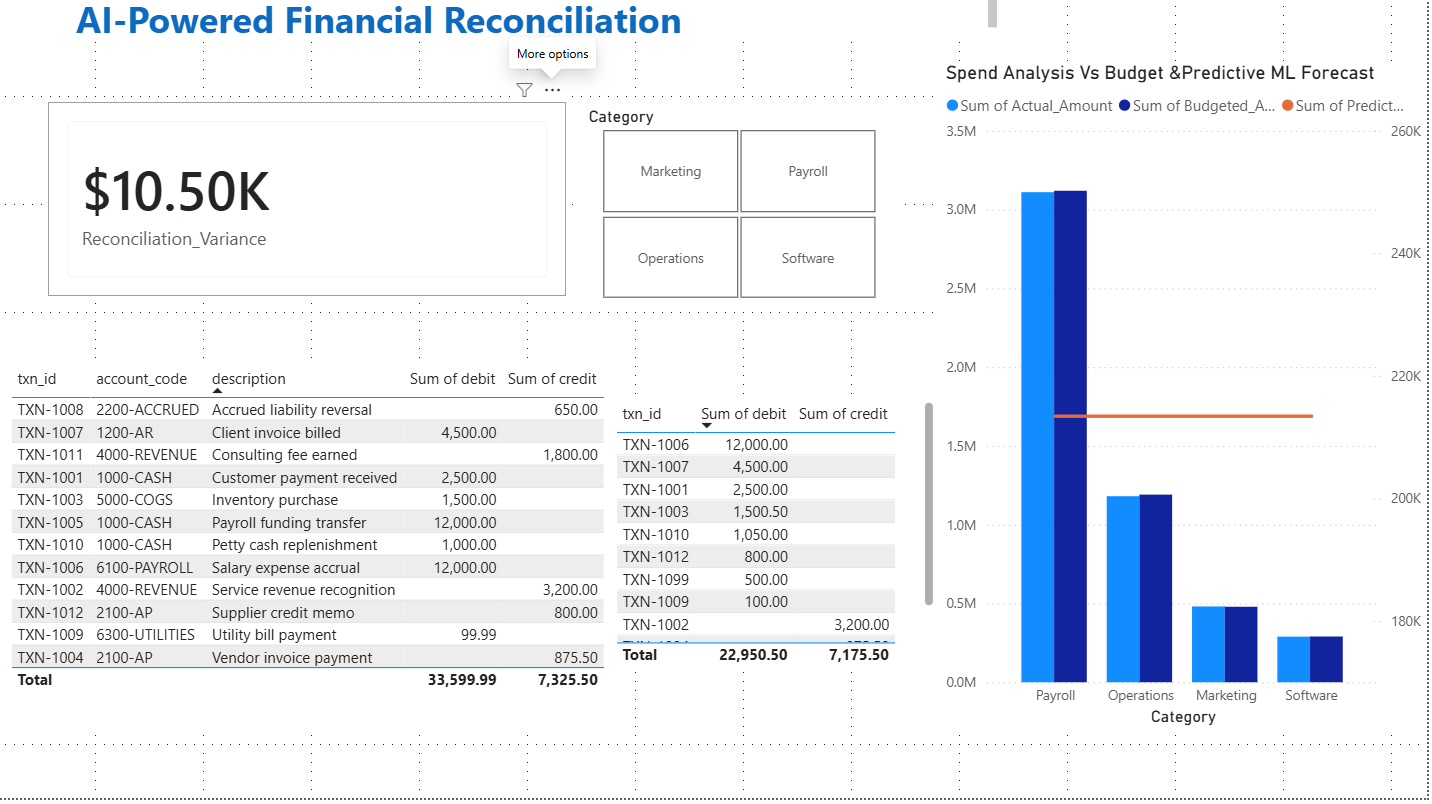

The dashboard page shown, as its layout file describes it:
{"tool":"powerbi","page":{"name":"Page 1","canvas":[1280,720],"ordinal":0},"visuals":[{"type":"cardVisual","fields":{"Data":["Fact_HQ_Ledger.Reconciliation_Variance"]},"box":[54,101,461,173],"z":0},{"type":"tableEx","fields":{"Values":["Fact_HQ_Ledger.txn_id","Fact_HQ_Ledger.account_code","Fact_HQ_Ledger.description","Sum(Fact_HQ_Ledger.debit)","Sum(Fact_HQ_Ledger.credit)"]},"box":[16,331.6,537.8,328.9],"z":1000},{"type":"tableEx","fields":{"Values":["Fact_Sub_Ledger.txn_id","Sum(Fact_Sub_Ledger.debit)","Sum(Fact_Sub_Ledger.credit)"]},"box":[553.8,362.7,293.3,244.4],"z":2000},{"type":"lineClusteredColumnComboChart","title":"Spend Analysis Vs Budget &Predictive ML Forecast","fields":{"Category":["Fact_Historiacal_Spending.Category"],"Y":["Sum(Fact_Historiacal_Spending.Actual_Amount)","Sum(Fact_Historiacal_Spending.Budgeted_Amount)"],"Y2":["Sum(Fact_Budget_Forecast.Predicted_Next_Month_Spend)"]},"box":[847.1,64.9,432.9,595.6],"z":3000},{"type":"slicer","fields":{"Values":["Fact_Historiacal_Spending.Category"]},"box":[522,101,292,181],"z":4000},{"type":"textbox","box":[73.8,0,829.3,46.2],"z":5000}]}

Visuals, with their boxes on the page's 1280x720 design canvas (x1, y1, x2, y2). These are canvas units, not pixel positions in the 1432x804 screenshot, which may show the page scaled, cropped or inside an application window:
cardVisual - Fact_HQ_Ledger.Reconciliation_Variance: Rect(54, 101, 515, 274)
tableEx - Fact_HQ_Ledger.txn_id x Fact_HQ_Ledger.account_code: Rect(16, 332, 554, 660)
tableEx - Fact_Sub_Ledger.txn_id x Sum(Fact_Sub_Ledger.debit): Rect(554, 363, 847, 607)
"Spend Analysis Vs Budget &Predictive ML Forecast" lineClusteredColumnComboChart: Rect(847, 65, 1280, 660)
slicer - Fact_Historiacal_Spending.Category: Rect(522, 101, 814, 282)
textbox: Rect(74, 0, 903, 46)
